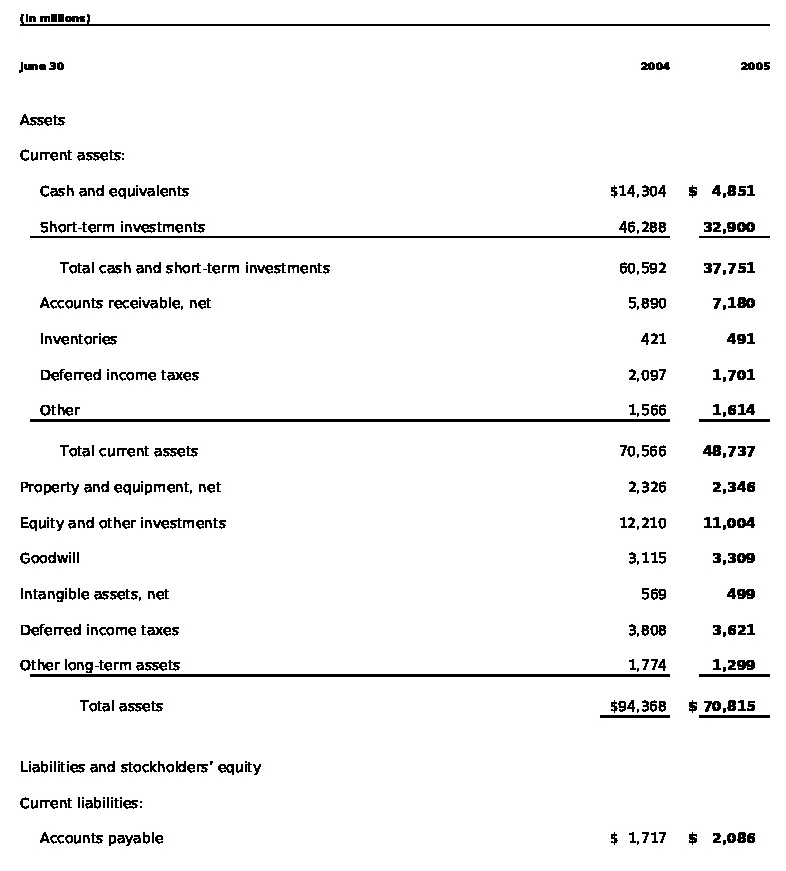table: (0, 0, 786, 871)
